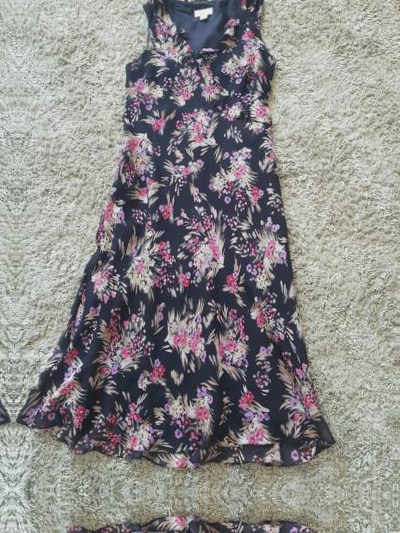Dress: (30, 0, 378, 470), (21, 516, 369, 533), (0, 0, 2, 464)
